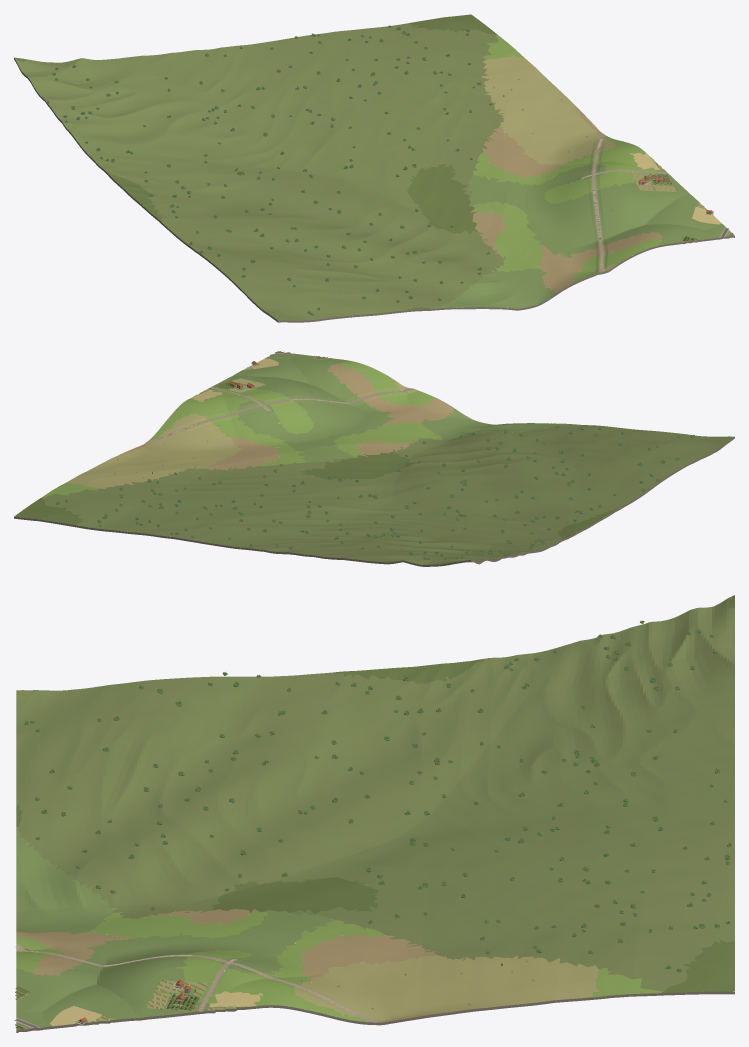
The model's file is parca_+10_-6-yakin.glb.
3 views of the same model, one above another, from view 1: azimuth 30°, elevation 25°; view 2: azimuth 150°, elevation 25°; view 3: azimuth 270°, elevation 25° (orthographic). The views are drawn at different scales.
Parts seen in each view (by area): view 1: parca_+10_-6_arazi, parca_+10_-6_bitkiler, parca_+10_-6_yollar; view 2: parca_+10_-6_arazi, parca_+10_-6_bitkiler, parca_+10_-6_yollar; view 3: parca_+10_-6_arazi, parca_+10_-6_bitkiler, parca_+10_-6_yollar.
Part boxes in pixels (bbox=[...]): parca_+10_-6_arazi: bbox=[14, 14, 734, 322]; parca_+10_-6_bitkiler: bbox=[46, 25, 640, 315]; parca_+10_-6_yollar: bbox=[583, 133, 729, 272]; parca_+10_-6_arazi: bbox=[14, 351, 734, 566]; parca_+10_-6_bitkiler: bbox=[56, 387, 694, 559]; parca_+10_-6_yollar: bbox=[145, 352, 412, 442]; parca_+10_-6_arazi: bbox=[16, 595, 734, 1032]; parca_+10_-6_bitkiler: bbox=[24, 620, 731, 1009]; parca_+10_-6_yollar: bbox=[14, 946, 375, 1028].
Size of the model in its own units: 1011 by 250 by 1003.
